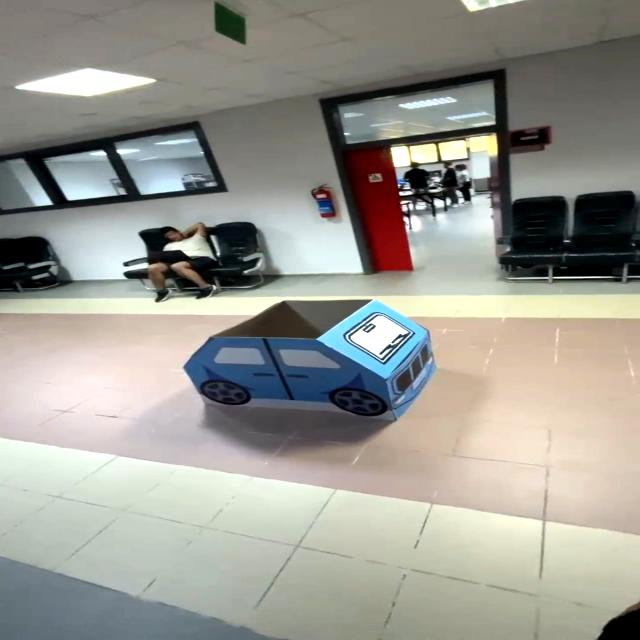blue_car: (178, 292, 455, 423)
